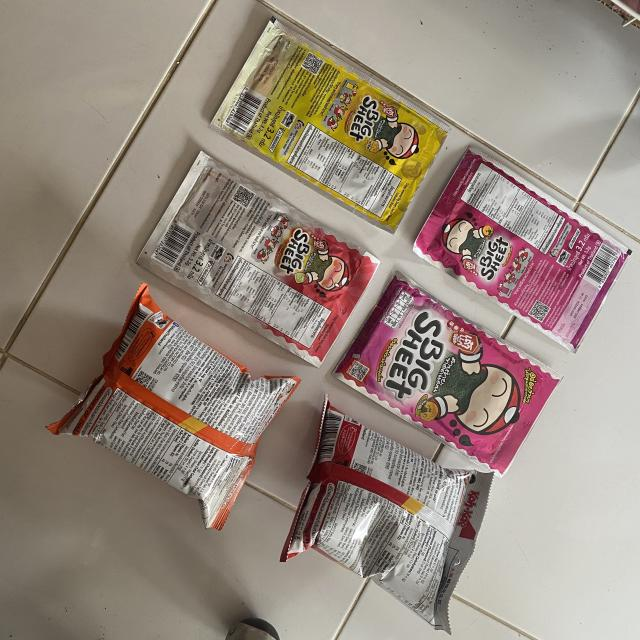plastik: (48, 284, 300, 530), (138, 151, 379, 368), (211, 18, 450, 232), (280, 395, 492, 634), (334, 272, 562, 476), (414, 148, 631, 352)
